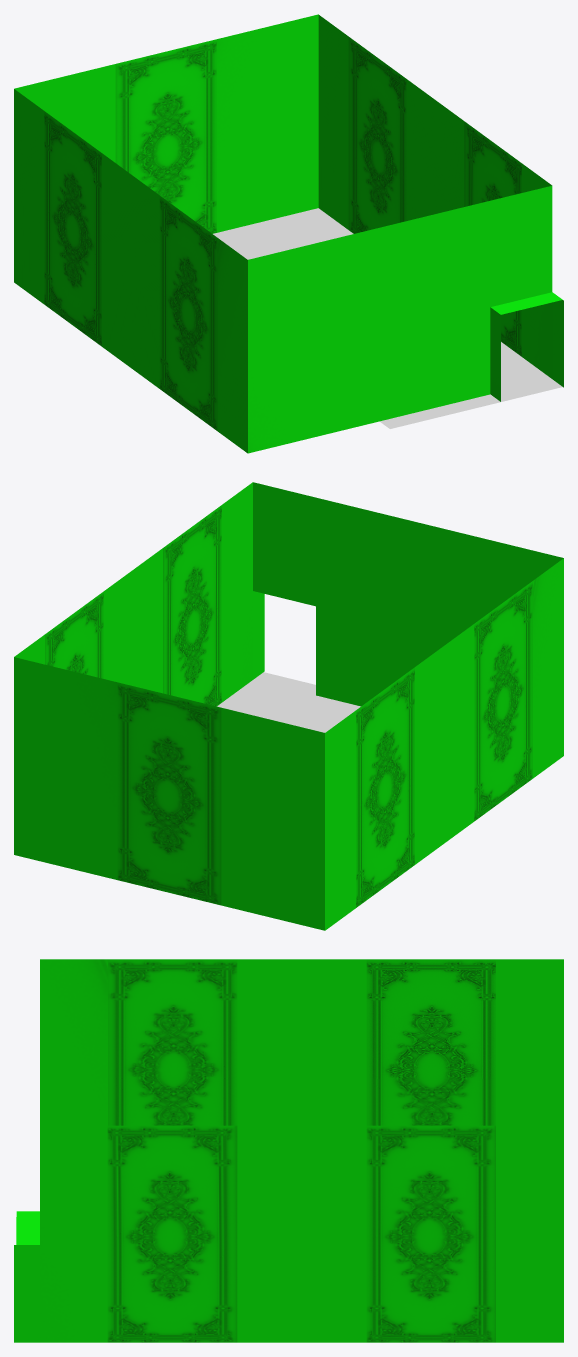
The model's file is 휴게실.fbx.
3 renders of one model, top to bottom at view 1: azimuth 30°, elevation 25°; view 2: azimuth 150°, elevation 25°; view 3: azimuth 270°, elevation 25°, orthographic. The views are drawn at different scales.
Visible parts, largest first — view 1: 휴게실 벽, 휴게실 바닥; view 2: 휴게실 벽, 휴게실 바닥; view 3: 휴게실 벽.
Part boxes in pixels (x1=…): 휴게실 벽: x1=14, y1=14, x2=563, y2=453; 휴게실 바닥: x1=213, y1=208, x2=562, y2=428; 휴게실 벽: x1=14, y1=482, x2=563, y2=930; 휴게실 바닥: x1=217, y1=672, x2=360, y2=732; 휴게실 벽: x1=14, y1=959, x2=563, y2=1342.
Size of the model in its own units: 326 by 198 by 455.
